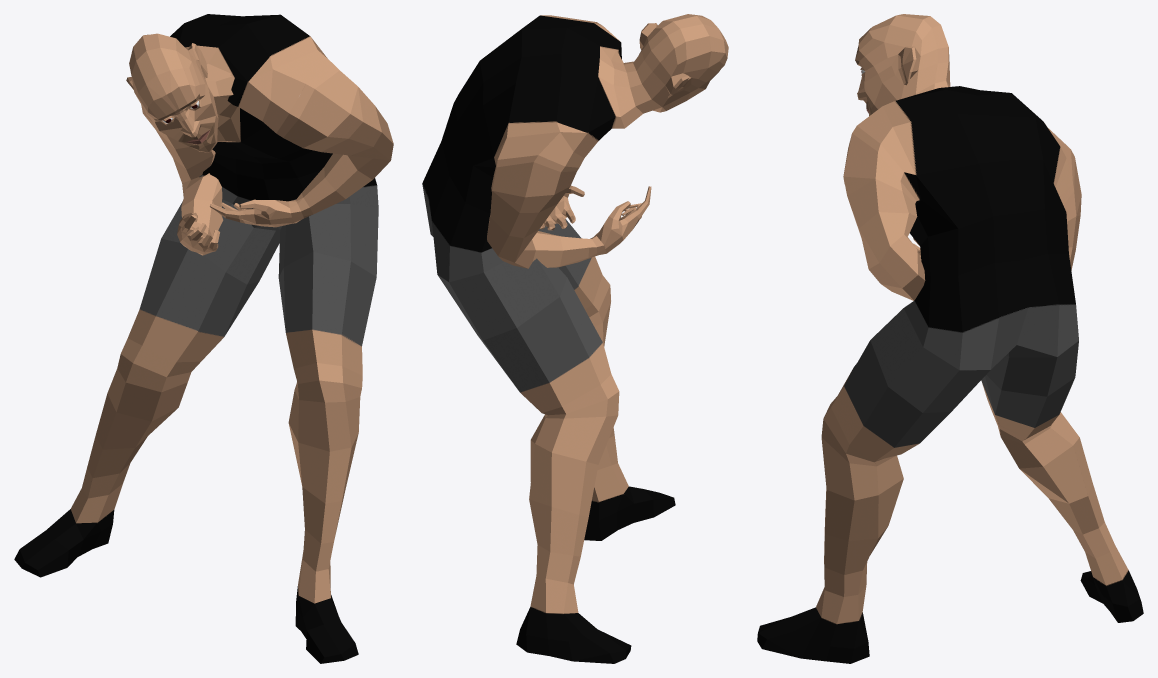
Rendered from PlayerDead(20).obj.
3 renders of one model, left to right at view 1: azimuth 30°, elevation 25°; view 2: azimuth 150°, elevation 25°; view 3: azimuth 270°, elevation 25°, orthographic. The views are drawn at different scales.
Parts seen in each view (by area): view 1: Plane002; view 2: Plane002; view 3: Plane002.
Boxes of the visible parts, x1,y1,x2,y2 form: Plane002: (14,14,393,663); Plane002: (422,14,728,663); Plane002: (757,14,1143,663).
Size of the model in its own units: 683 by 1417 by 852.
